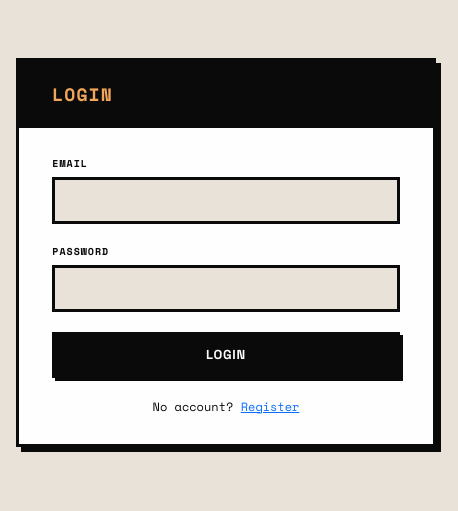
Test: Login page › falls back to a generic error message when the response has no detail
Type "a@a.com" into the field labelled "Email" at [226, 201], box [52,177,400,224]
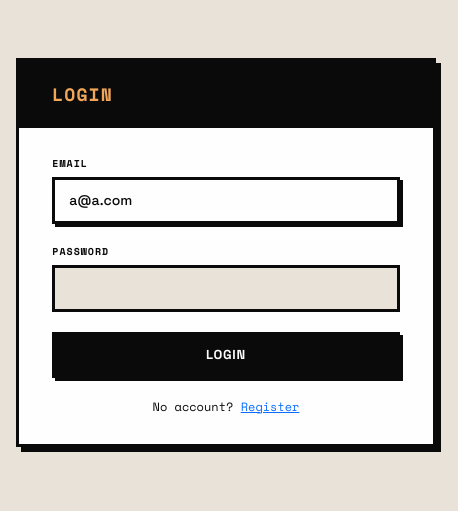
Type "pass" into the password field labelled "Password" at [226, 289], box [52,265,400,312]
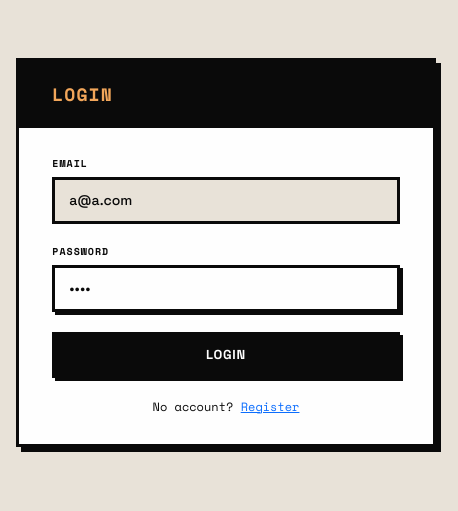
Click the button "Login" at [226, 355], box [52,332,400,378]
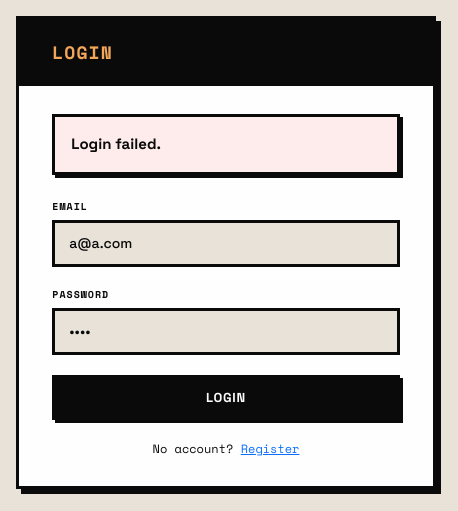
Now the text "Login failed." is shown, box [52,114,400,174]
